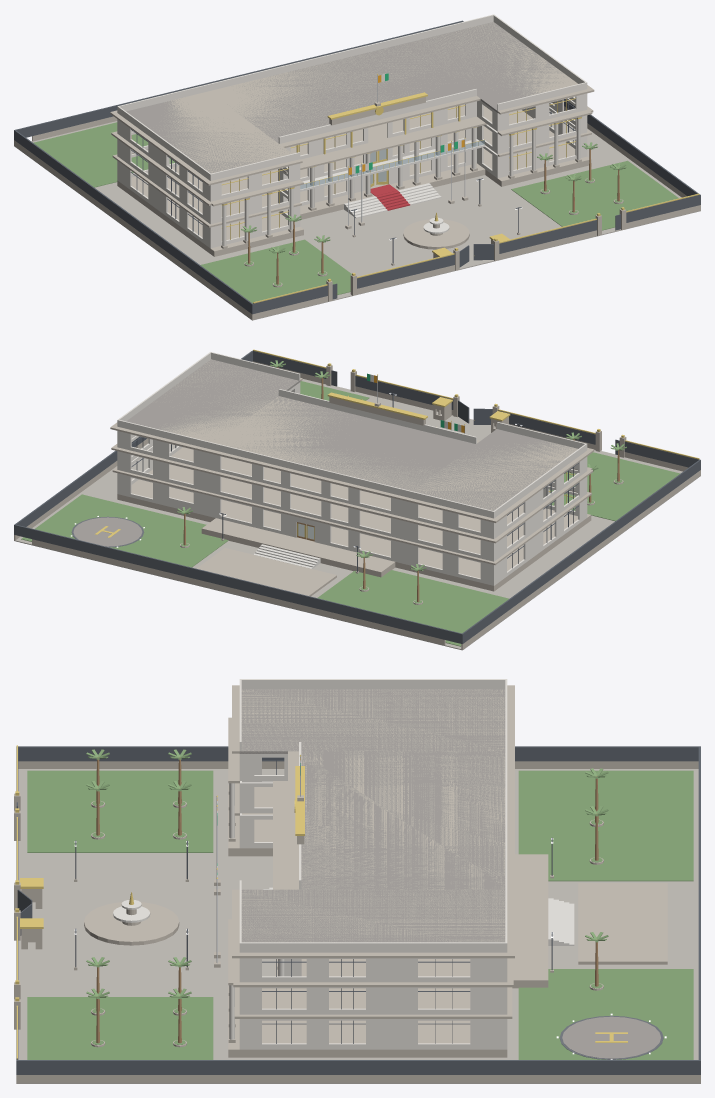
File: SM_Palais_Presidentiel.fbx
3 renders of one model, top to bottom at view 1: azimuth 30°, elevation 25°; view 2: azimuth 150°, elevation 25°; view 3: azimuth 270°, elevation 25°, orthographic. The views are drawn at different scales.
Visible parts, largest first — view 1: Palais_Ext_Site, Palais_Ext_Roof, Palais_Ext_Details, Palais_Ext_Walls; view 2: Palais_Ext_Site, Palais_Ext_Roof, Palais_Ext_Details, Palais_Ext_Walls; view 3: Palais_Ext_Site, Palais_Ext_Roof, Palais_Ext_Details, Palais_Ext_Walls.
Boxes of the visible parts, x1,y1,x2,y2 form: Palais_Ext_Site: [14, 101, 700, 320]; Palais_Ext_Roof: [110, 14, 594, 185]; Palais_Ext_Details: [14, 20, 700, 314]; Palais_Ext_Walls: [117, 93, 587, 248]; Palais_Ext_Site: [14, 361, 700, 650]; Palais_Ext_Roof: [110, 352, 594, 522]; Palais_Ext_Details: [14, 349, 700, 643]; Palais_Ext_Walls: [117, 382, 587, 585]; Palais_Ext_Site: [16, 761, 700, 1083]; Palais_Ext_Roof: [232, 679, 514, 958]; Palais_Ext_Details: [14, 717, 700, 1074]; Palais_Ext_Walls: [239, 754, 507, 1049].
Size of the model in its own units: 10000 by 2550 by 9230.
